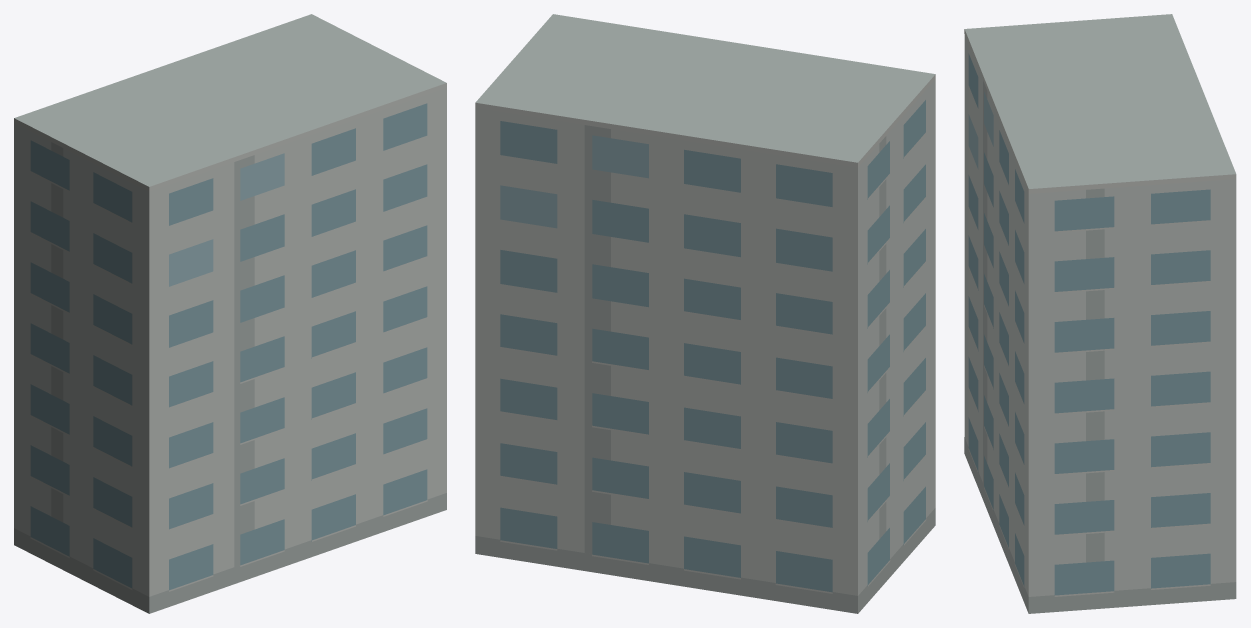
The model's file is survey-upis-32597161.glb.
3 views of the same model, side by side, from view 1: azimuth 30°, elevation 25°; view 2: azimuth 150°, elevation 25°; view 3: azimuth 270°, elevation 25° (orthographic). The views are drawn at different scales.
Parts seen in each view (by area): view 1: survey-upis-32597161.tmp; view 2: survey-upis-32597161.tmp; view 3: survey-upis-32597161.tmp.
Part boxes in pixels (x1,y1,x2,y2): survey-upis-32597161.tmp: (14, 14, 446, 613); survey-upis-32597161.tmp: (475, 14, 935, 613); survey-upis-32597161.tmp: (964, 14, 1236, 613).
Size of the model in its own units: 18.89 by 21.35 by 12.39.
